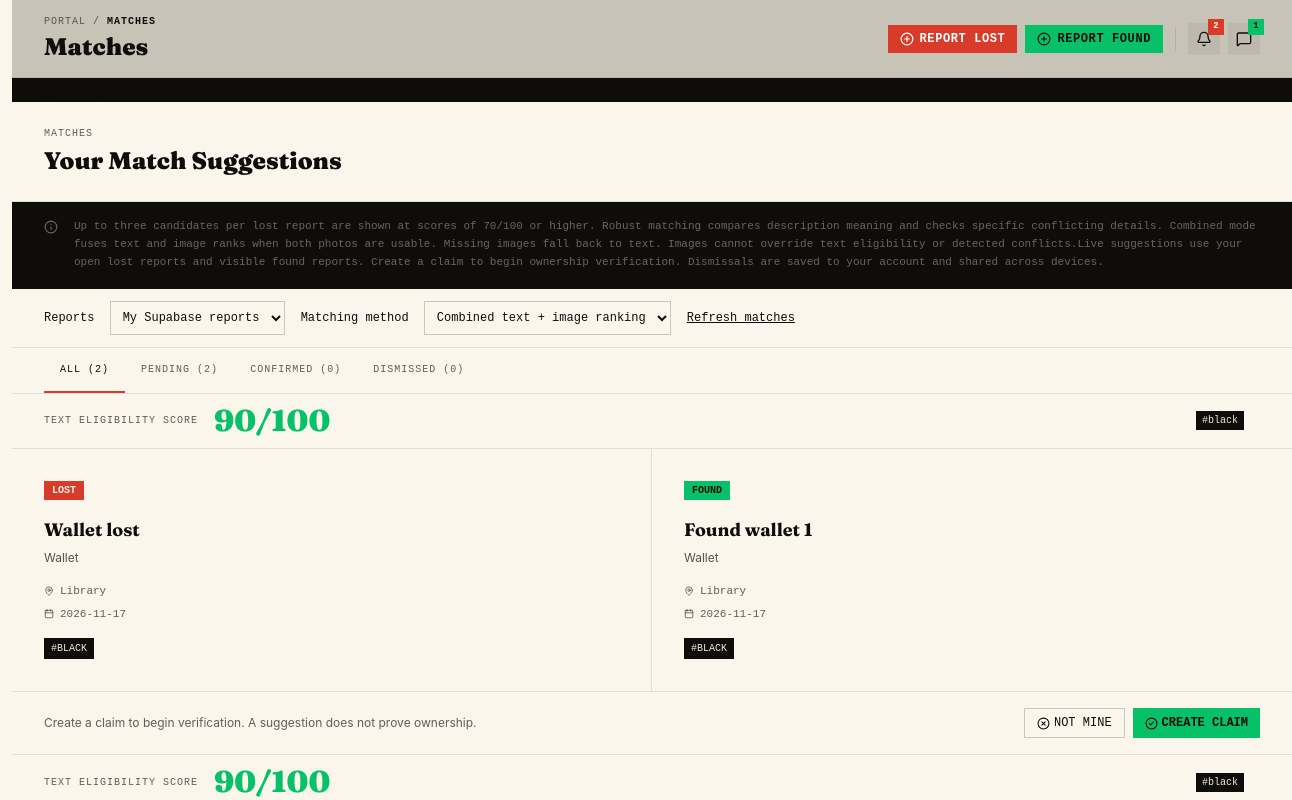
Test: matching UI and shared state › does not confirm a failed claim
Expected: the button "pending (2)" is shown, 125,348 -> 234,393
Step 1. Click the button "Create claim" → {"x": 1196, "y": 723}, box 1133,708 -> 1260,738
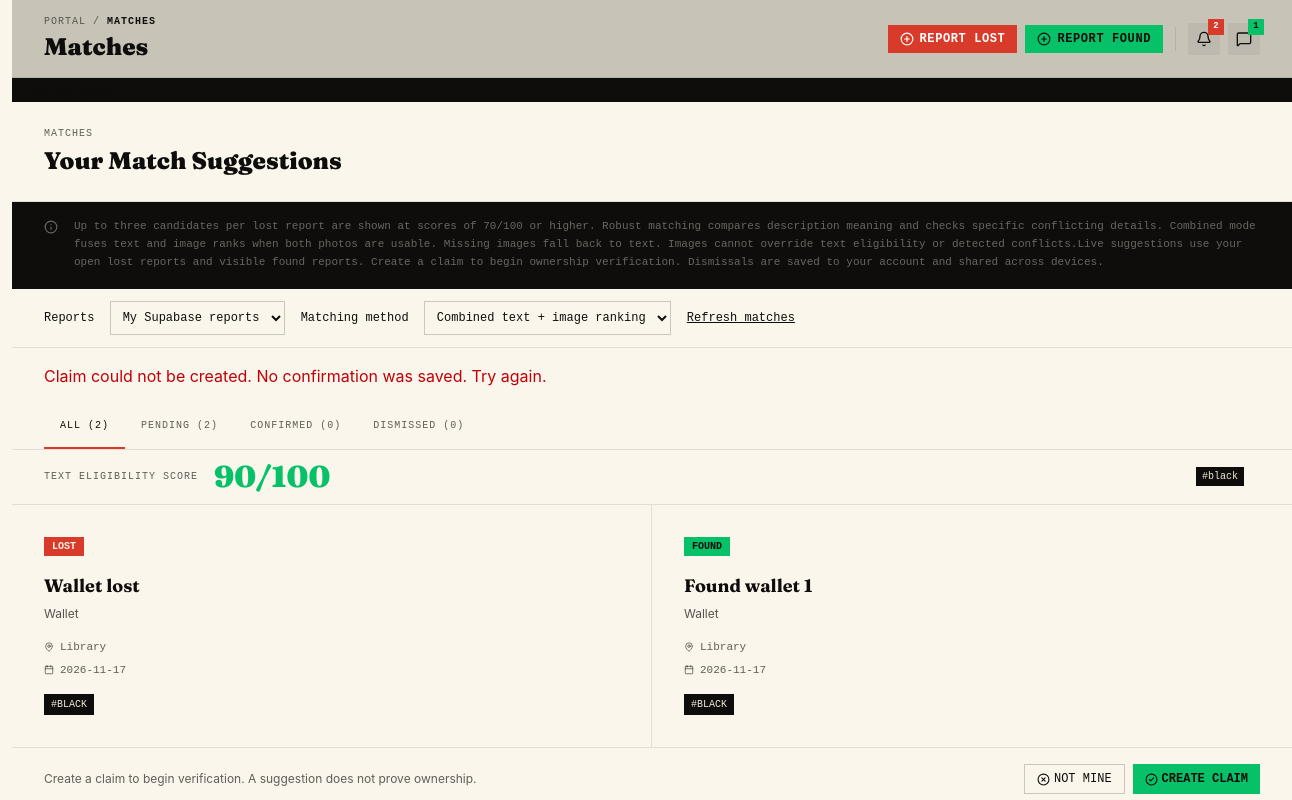
Now the message "Claim could not be created. No confirmation was saved. Try again." is shown, box 44,366 -> 546,386
